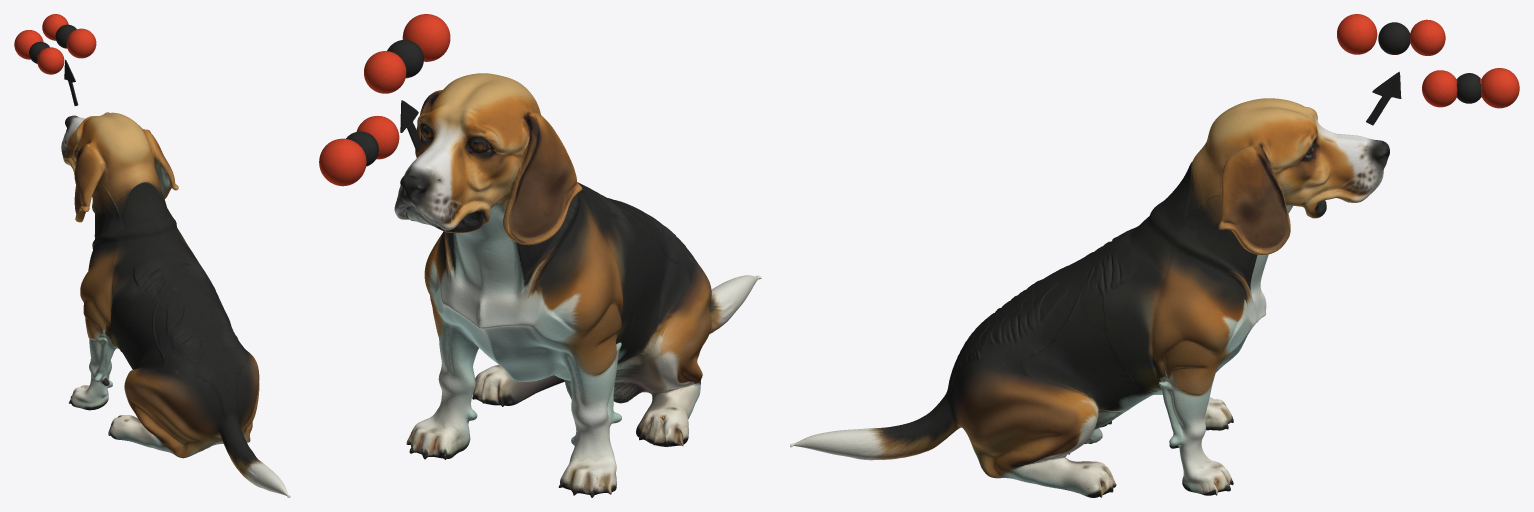
The model's file is animal-respiration.glb.
3 views of the same model, side by side, from view 1: azimuth 30°, elevation 25°; view 2: azimuth 150°, elevation 25°; view 3: azimuth 270°, elevation 25° (orthographic). The views are drawn at different scales.
Visible parts, largest first — view 1: tripo_node_5761f9b4-f282-42ed-85a1-b031a1fcc4b5; view 2: tripo_node_5761f9b4-f282-42ed-85a1-b031a1fcc4b5; view 3: tripo_node_5761f9b4-f282-42ed-85a1-b031a1fcc4b5.
Boxes of the visible parts, x1,y1,x2,y2 form: tripo_node_5761f9b4-f282-42ed-85a1-b031a1fcc4b5: [14, 14, 290, 497]; tripo_node_5761f9b4-f282-42ed-85a1-b031a1fcc4b5: [319, 14, 761, 497]; tripo_node_5761f9b4-f282-42ed-85a1-b031a1fcc4b5: [790, 14, 1519, 497].
Size of the model in its own units: 0.2878 by 0.6704 by 1.
Materials: 1 (1 with a texture image).
